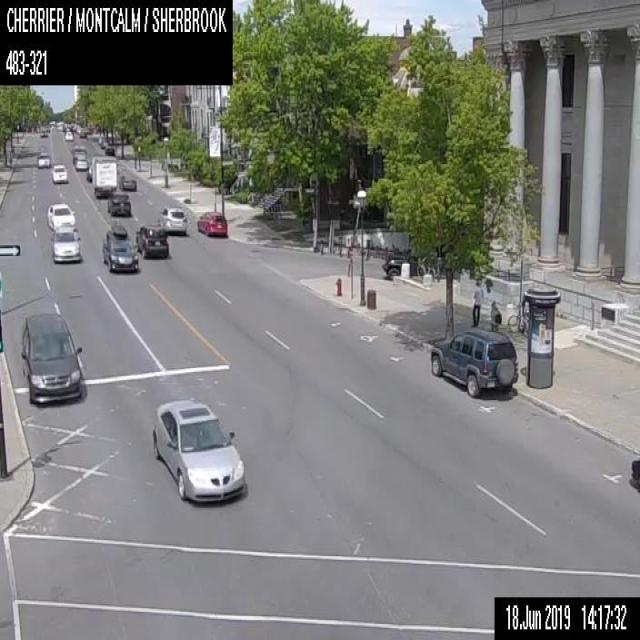pedestrian: (470, 280, 483, 327), (489, 298, 502, 330)
vehicle: (151, 397, 246, 503), (429, 326, 520, 398), (19, 313, 83, 404), (101, 223, 137, 272), (50, 221, 80, 263), (135, 225, 169, 258), (92, 156, 116, 198), (383, 252, 418, 279), (46, 202, 75, 230), (197, 210, 228, 236), (158, 206, 186, 234), (108, 191, 130, 216), (628, 456, 639, 492), (51, 163, 68, 183), (119, 174, 136, 190), (70, 145, 86, 162), (36, 151, 49, 168), (74, 156, 87, 169), (85, 164, 92, 181), (104, 144, 114, 155), (64, 129, 73, 140), (78, 127, 85, 138), (40, 128, 46, 137)
